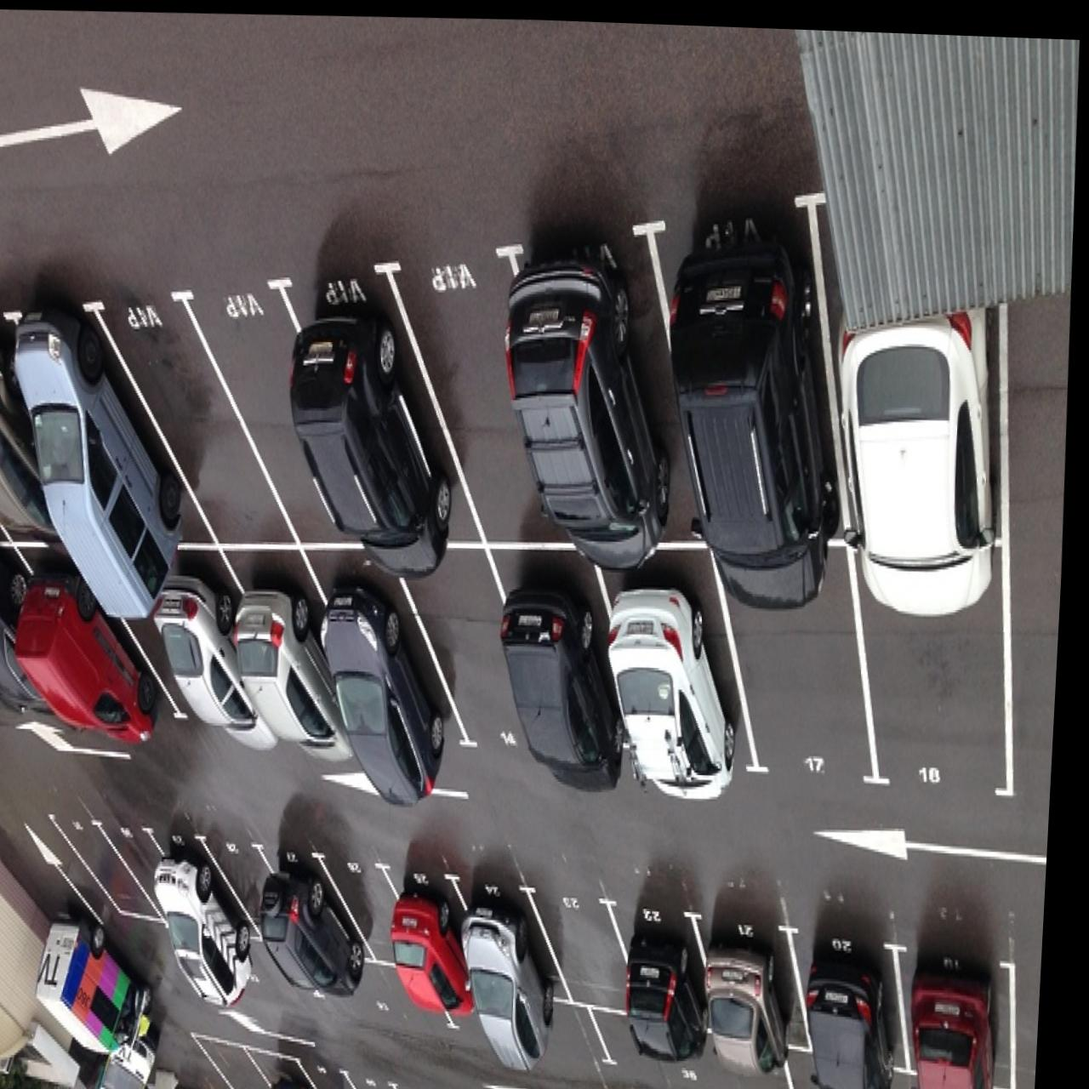cars: (813, 209, 1033, 558), (651, 210, 856, 543), (520, 225, 714, 563), (2, 304, 186, 601), (300, 252, 460, 555), (607, 553, 742, 777), (501, 569, 631, 785), (237, 560, 354, 781), (325, 567, 454, 765), (22, 583, 161, 757), (789, 909, 911, 1075), (901, 923, 1029, 1080), (694, 895, 810, 1062), (166, 589, 270, 756), (611, 880, 714, 1047), (266, 838, 374, 983), (0, 327, 60, 587), (455, 868, 562, 1011), (388, 861, 484, 1003), (159, 826, 247, 970), (0, 561, 57, 755)
empty: (401, 239, 576, 557), (110, 277, 293, 581), (205, 267, 370, 573), (851, 572, 1022, 815), (723, 532, 864, 782), (402, 537, 535, 770), (102, 585, 219, 758), (324, 831, 419, 987), (48, 789, 149, 934), (97, 805, 198, 949), (538, 884, 637, 1012), (223, 836, 302, 979)
